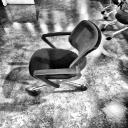chair_success: (24, 20, 104, 98)
